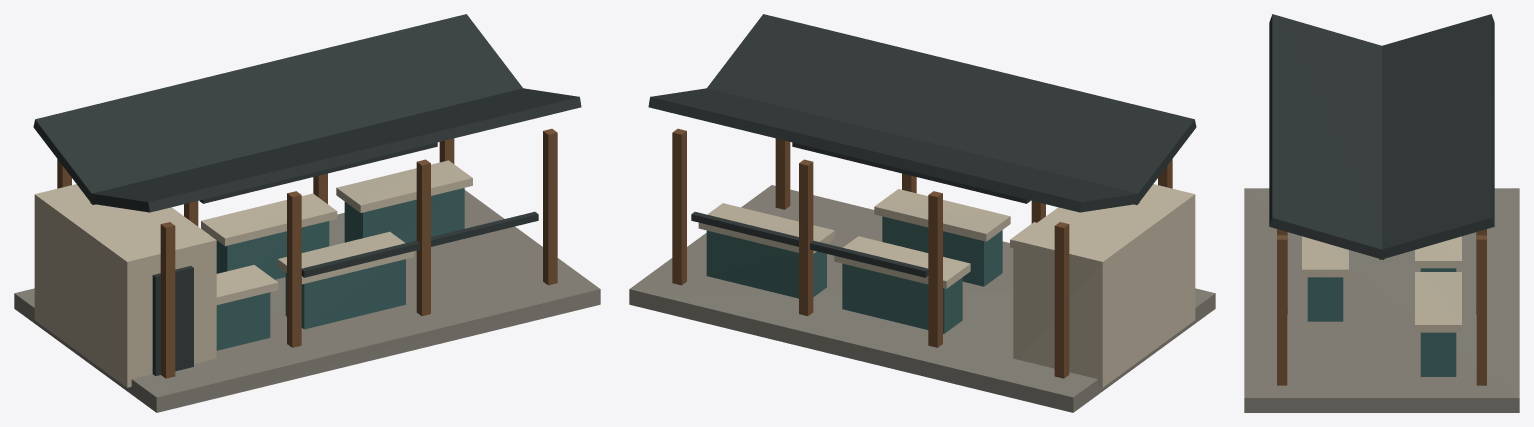
Rendered from Farmers-Market.glb.
3 renders of one model, left to right at view 1: azimuth 30°, elevation 25°; view 2: azimuth 150°, elevation 25°; view 3: azimuth 270°, elevation 25°, orthographic. The views are drawn at different scales.
Visible parts, largest first — view 1: farmers-market-static-farmers-market-charcoal-roof-and-rails, farmers-market-static-farmers-market-cream-kiosk-and-tops, farmers-market-static-farmers-market-pale-stone, farmers-market-static-farmers-market-muted-teal-counter-pane, farmers-market-static-farmers-market-warm-timber; view 2: farmers-market-static-farmers-market-charcoal-roof-and-rails, farmers-market-static-farmers-market-cream-kiosk-and-tops, farmers-market-static-farmers-market-pale-stone, farmers-market-static-farmers-market-muted-teal-counter-pane, farmers-market-static-farmers-market-warm-timber; view 3: farmers-market-static-farmers-market-charcoal-roof-and-rails, farmers-market-static-farmers-market-pale-stone, farmers-market-static-farmers-market-cream-kiosk-and-tops, farmers-market-static-farmers-market-muted-teal-counter-pane, farmers-market-static-farmers-market-warm-timber.
Boxes of the visible parts, left/top/right/bottom form: farmers-market-static-farmers-market-charcoal-roof-and-rails: left=33, top=14, right=581, bottom=375; farmers-market-static-farmers-market-cream-kiosk-and-tops: left=34, top=160, right=472, bottom=387; farmers-market-static-farmers-market-pale-stone: left=14, top=190, right=600, bottom=412; farmers-market-static-farmers-market-muted-teal-counter-pane: left=216, top=188, right=464, bottom=350; farmers-market-static-farmers-market-warm-timber: left=57, top=128, right=557, bottom=378; farmers-market-static-farmers-market-charcoal-roof-and-rails: left=648, top=14, right=1196, bottom=277; farmers-market-static-farmers-market-cream-kiosk-and-tops: left=698, top=184, right=1195, bottom=387; farmers-market-static-farmers-market-pale-stone: left=629, top=185, right=1215, bottom=412; farmers-market-static-farmers-market-muted-teal-counter-pane: left=706, top=216, right=1002, bottom=333; farmers-market-static-farmers-market-warm-timber: left=672, top=128, right=1172, bottom=378; farmers-market-static-farmers-market-charcoal-roof-and-rails: left=1269, top=14, right=1494, bottom=314; farmers-market-static-farmers-market-pale-stone: left=1244, top=188, right=1519, bottom=412; farmers-market-static-farmers-market-cream-kiosk-and-tops: left=1302, top=236, right=1461, bottom=332; farmers-market-static-farmers-market-muted-teal-counter-pane: left=1307, top=268, right=1456, bottom=376; farmers-market-static-farmers-market-warm-timber: left=1277, top=229, right=1486, bottom=385.
Size of the model in its own units: 7.27 by 3.08 by 4.
